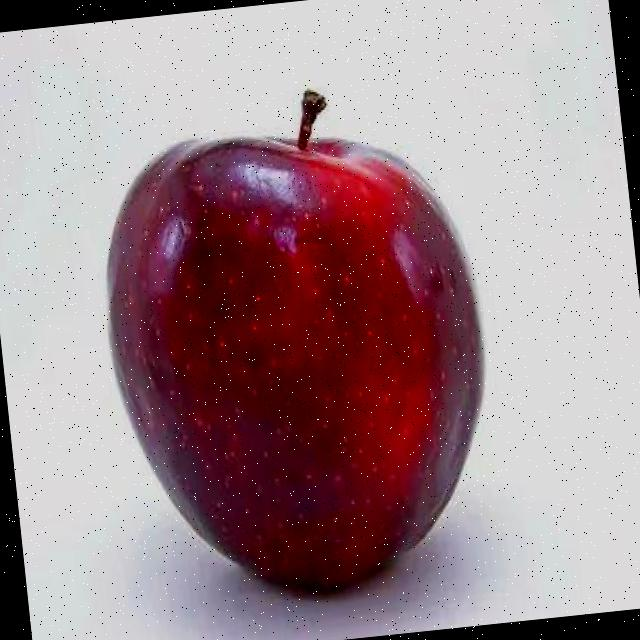apple: (36, 31, 554, 640)
